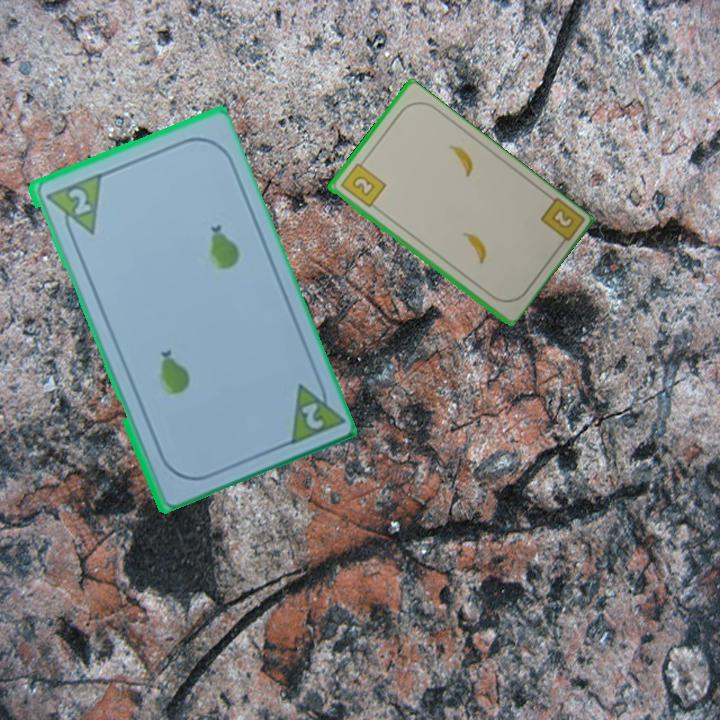2b: (536, 194, 585, 252), (337, 156, 388, 210)
2p: (64, 184, 94, 218), (297, 398, 326, 433)
